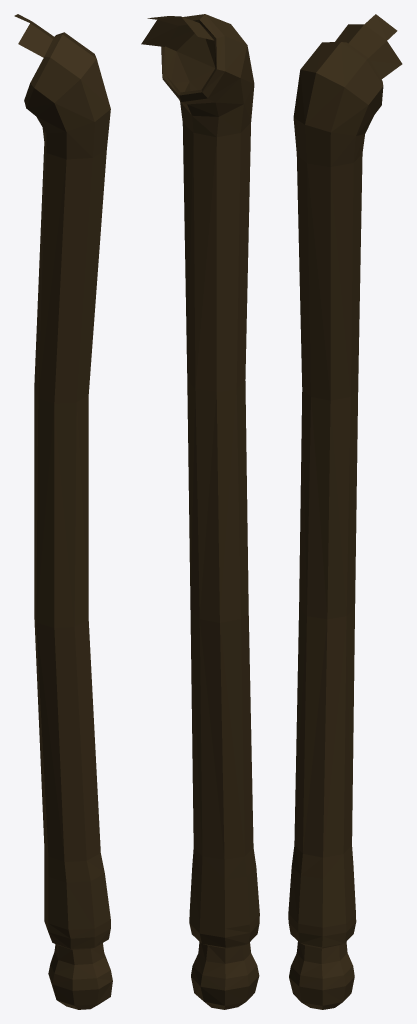
The model's file is ant-scape-right.dae.
The picture shows the model from 3 angles, left to right: view 1: azimuth 90°, elevation 25°; view 2: azimuth 150°, elevation 25°; view 3: azimuth 330°, elevation 25°; orthographic projection. The views are drawn at different scales.
Parts seen in each view (by area): view 1: ant-scape-right; view 2: ant-scape-right; view 3: ant-scape-right.
Boxes of the visible parts, x1,y1,x2,y2 form: ant-scape-right: [14, 14, 112, 1009]; ant-scape-right: [141, 14, 259, 1009]; ant-scape-right: [288, 14, 402, 1009].
Size of the model in its own units: 0.4752 by 0.49 by 5.34.
